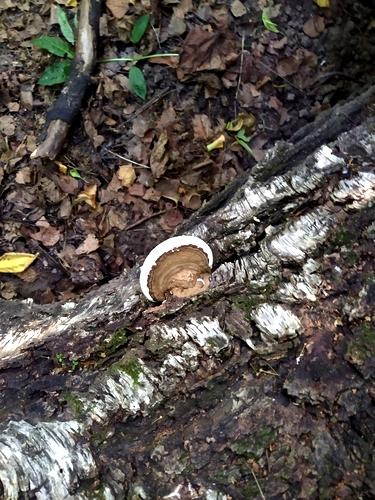Ganoderma - Fruit Body: (140, 236, 215, 304)
